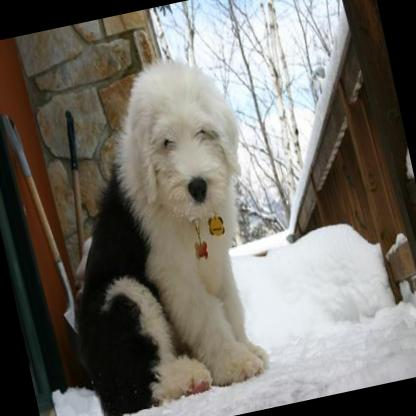Old_English_sheepdog: (24, 44, 293, 416)
